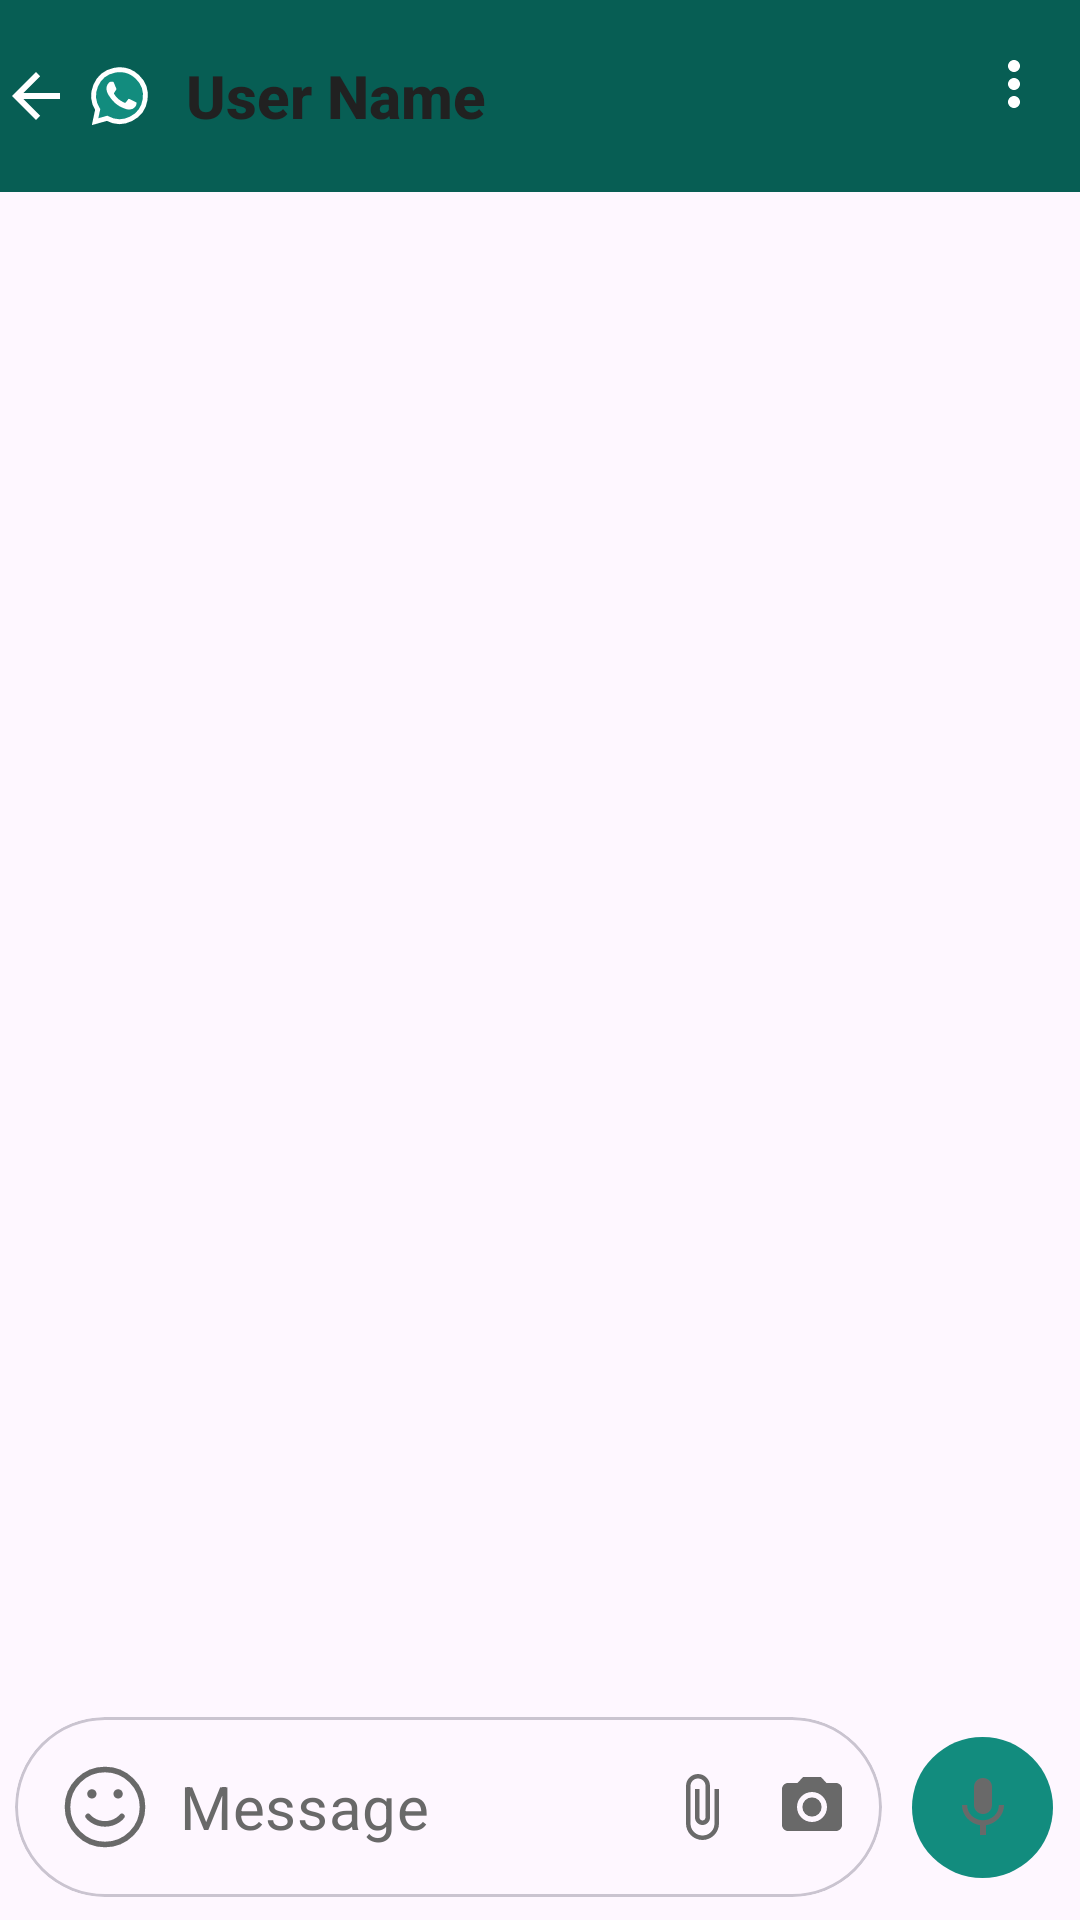

Locate icon controls on the screen. Image size 1080px x 1920px, boxes as box(x1, y1, x2, y2).
attach file: box(686, 1774, 719, 1840)
camera: box(782, 1777, 842, 1831)
emojy chat screen: box(64, 1766, 146, 1848)
